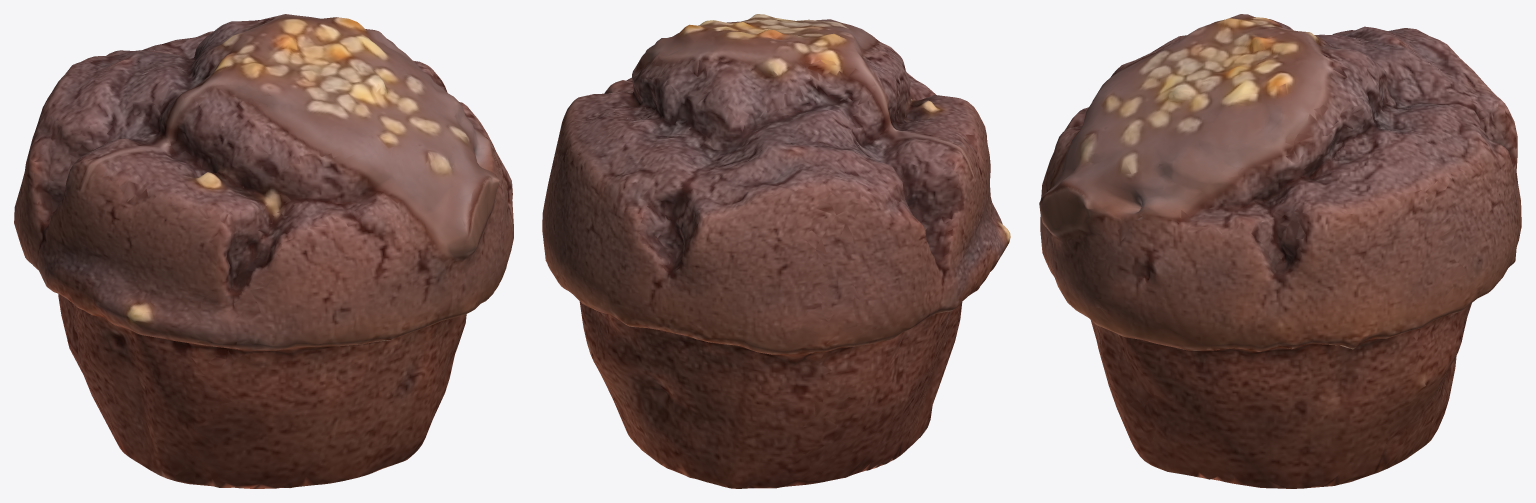
Rendered from muffin_9274.obj.
3 views of the same model, side by side, from view 1: azimuth 30°, elevation 25°; view 2: azimuth 150°, elevation 25°; view 3: azimuth 270°, elevation 25° (orthographic). The views are drawn at different scales.
Bounding box in the file's own units: 14.21 × 13.01 × 14.4.
Materials: 1 (1 with a texture image).
